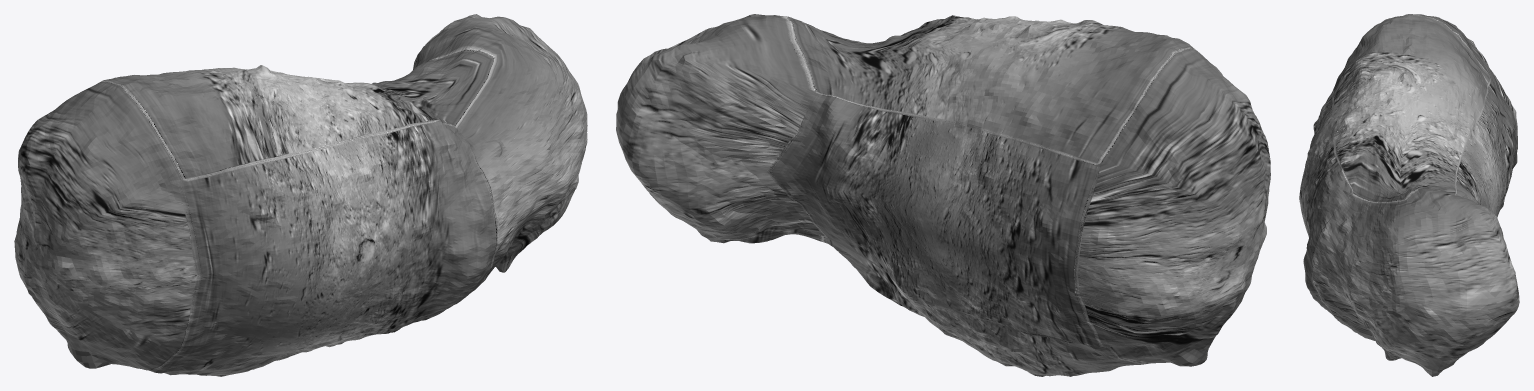
The model's file is ItokawaHayabusa.obj.
The picture shows the model from 3 angles, left to right: view 1: azimuth 30°, elevation 25°; view 2: azimuth 150°, elevation 25°; view 3: azimuth 270°, elevation 25°; orthographic projection. The views are drawn at different scales.
Size of the model in its own units: 0.5617 by 0.3051 by 0.2434.
